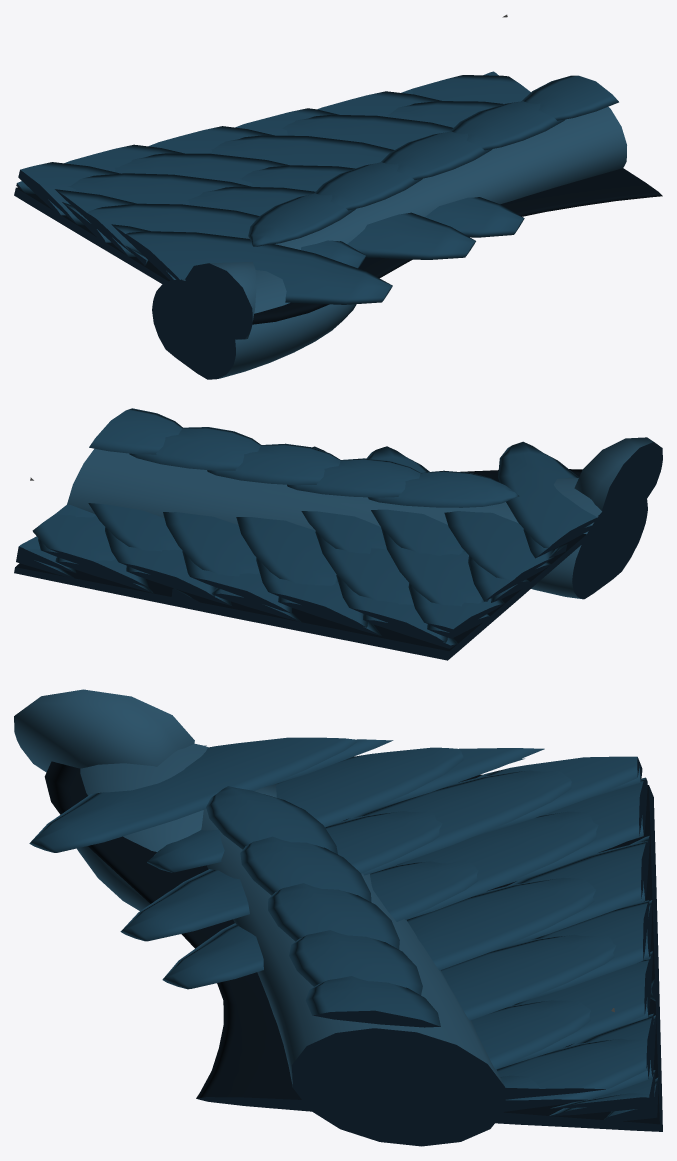
File: gryphon_81.glb
3 renders of one model, top to bottom at view 1: azimuth 30°, elevation 25°; view 2: azimuth 150°, elevation 25°; view 3: azimuth 270°, elevation 25°, orthographic. The views are drawn at different scales.
Visible parts, largest first — view 1: gryphon_81; view 2: gryphon_81; view 3: gryphon_81.
Part boxes in pixels (x1,y1,x2,y2): gryphon_81: (14, 14, 662, 379); gryphon_81: (14, 408, 662, 660); gryphon_81: (14, 689, 662, 1146).
Size of the model in its own units: 24 by 5.98 by 21.09.
